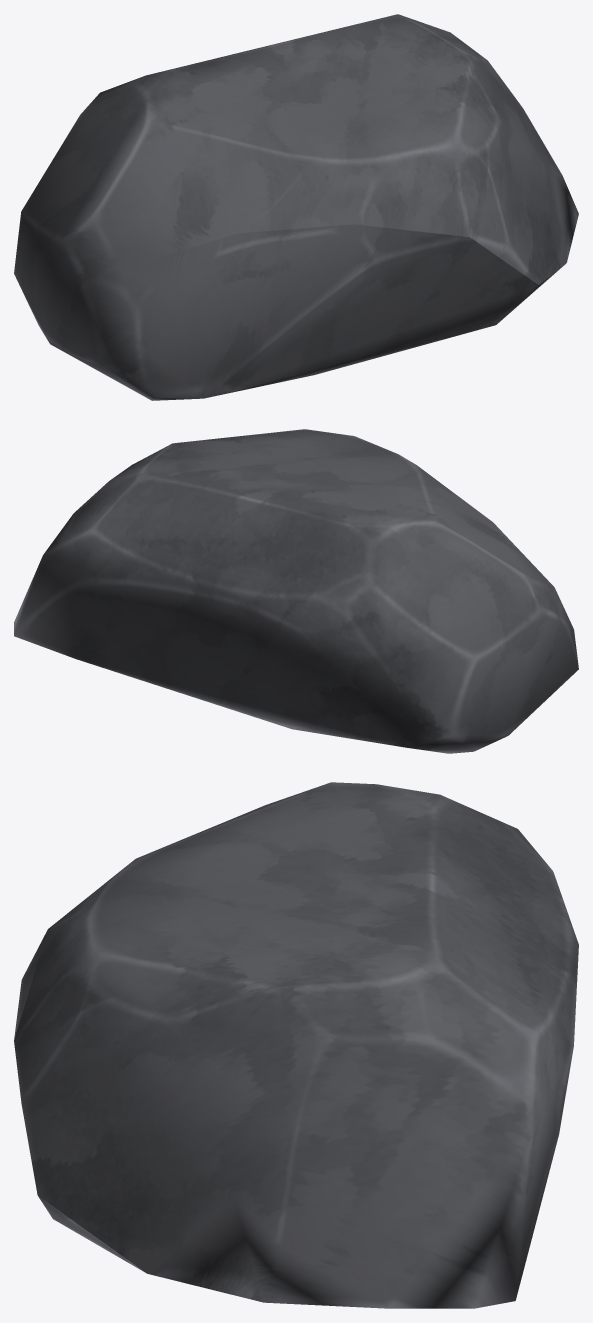
Rendered from Stone2_v2.fbx.
3 views of the same model, one above another, from view 1: azimuth 30°, elevation 25°; view 2: azimuth 150°, elevation 25°; view 3: azimuth 270°, elevation 25° (orthographic). The views are drawn at different scales.
Visible parts, largest first — view 1: Stone2_v2; view 2: Stone2_v2; view 3: Stone2_v2.
Boxes of the visible parts, <box> form: Stone2_v2: <box>14,14,578,400</box>; Stone2_v2: <box>14,429,578,753</box>; Stone2_v2: <box>14,782,578,1308</box>.
Size of the model in its own units: 200 by 82.03 by 134.
Materials: 1 (1 with a texture image).
